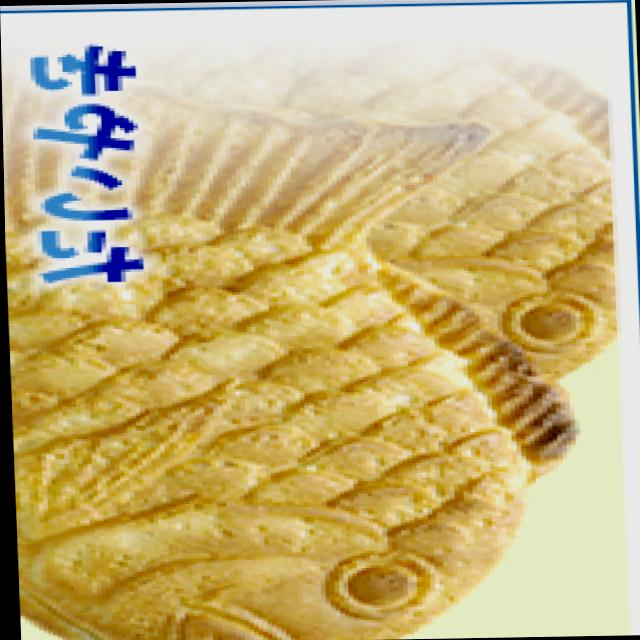熟制海鲜: (0, 6, 633, 640)
